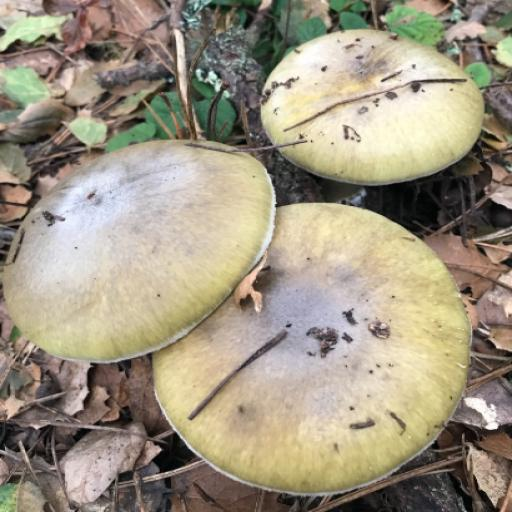Death Cap: (0, 93, 510, 512), (256, 0, 499, 217)
